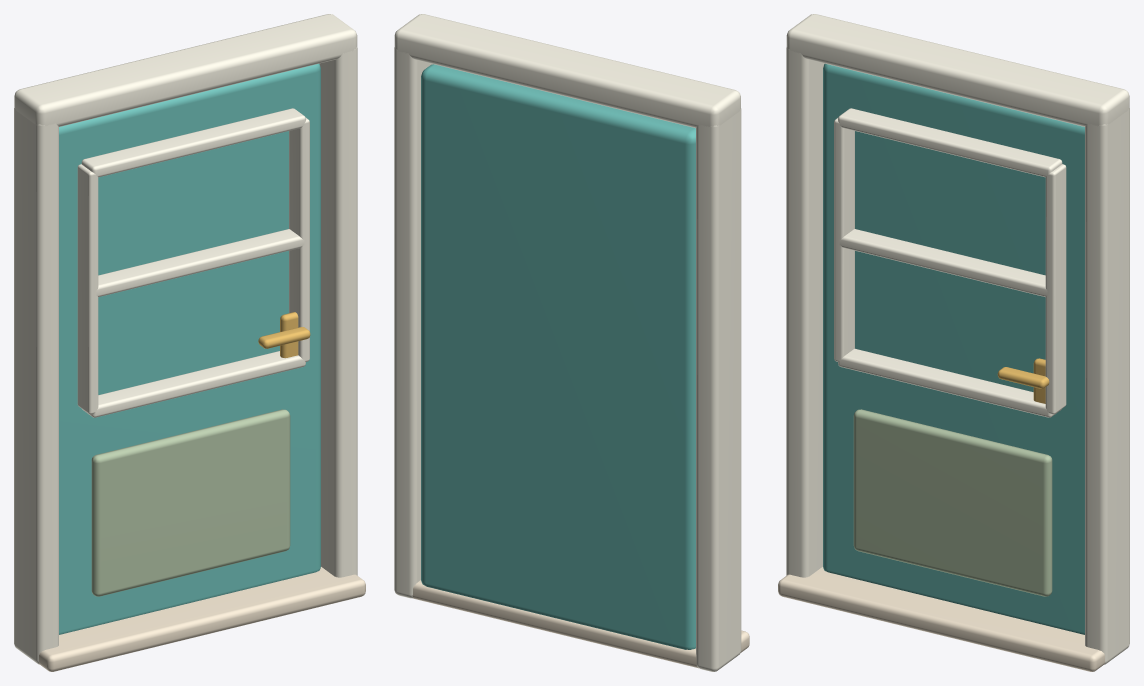
Rendered from doorMintGlass.glb.
3 renders of one model, left to right at view 1: azimuth 30°, elevation 25°; view 2: azimuth 150°, elevation 25°; view 3: azimuth 330°, elevation 25°, orthographic.
Parts seen in each view (by area): view 1: Door slab, Lower door panel, Door jamb, Door jamb.001, Door lintel, Door threshold, Door glass frame, Door glass bar.002, Door glass bar.001, Door glass bar, Door glass frame.001, Door lever (+1 smaller); view 2: Door slab, Door jamb, Door lintel, Door jamb.001, Door threshold; view 3: Door slab, Lower door panel, Door jamb.001, Door jamb, Door lintel, Door threshold, Door glass frame.001, Door glass bar.002, Door glass frame, Door glass bar.001, Door glass bar, Door lever.
Boxes of the visible parts, x1,y1,x2,y2 form: Door slab: (59, 63, 320, 634); Lower door panel: (91, 409, 290, 596); Door jamb: (14, 108, 58, 664); Door jamb.001: (319, 47, 357, 577); Door lintel: (14, 14, 357, 126); Door threshold: (39, 567, 365, 671); Door glass frame: (77, 164, 98, 414); Door glass bar.002: (81, 108, 305, 177); Door glass bar.001: (96, 229, 304, 296); Door glass bar: (82, 351, 305, 417); Door glass frame.001: (289, 118, 309, 361); Door lever: (258, 327, 310, 348); Door slab: (421, 64, 695, 649); Door jamb: (696, 108, 741, 671); Door lintel: (394, 14, 740, 128); Door jamb.001: (394, 47, 432, 598); Door threshold: (412, 580, 749, 668); Door slab: (823, 63, 1084, 634); Lower door panel: (853, 409, 1052, 596); Door jamb.001: (1085, 108, 1129, 664); Door jamb: (786, 47, 824, 577); Door lintel: (786, 14, 1129, 126); Door threshold: (778, 567, 1104, 671); Door glass frame.001: (1045, 164, 1066, 414); Door glass bar.002: (838, 108, 1062, 177); Door glass frame: (834, 118, 854, 361); Door glass bar.001: (839, 229, 1047, 296); Door glass bar: (838, 348, 1061, 417); Door lever: (997, 367, 1049, 388).
Bounding box in the file's own units: 1.29 × 2.15 × 0.255.
